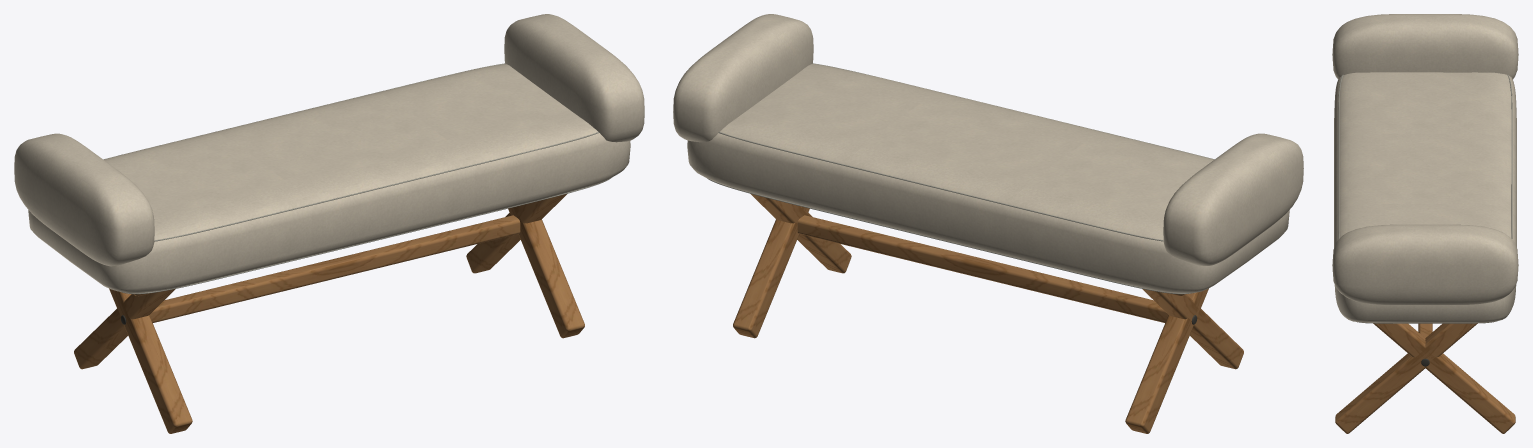
File: football-changing-bench.glb
The picture shows the model from 3 angles, left to right: view 1: azimuth 30°, elevation 25°; view 2: azimuth 150°, elevation 25°; view 3: azimuth 270°, elevation 25°; orthographic projection. The views are drawn at different scales.
Visible parts, largest first — view 1: Boucle | thick continuous upholstered seat, Boucle | raised end bolster, Boucle | raised end bolster.001, Oak | connecting stretcher, Oak | crossed trestle A, Oak | crossed trestle A.001, Oak | crossed trestle B, Oak | crossed trestle B.001, Boucle | thick continuous upholstered seat | upper tailored , Boucle | thick continuous upholstered seat | lower tailored ; view 2: Boucle | thick continuous upholstered seat, Boucle | raised end bolster, Boucle | raised end bolster.001, Oak | connecting stretcher, Oak | crossed trestle B, Oak | crossed trestle B.001, Oak | crossed trestle A, Oak | crossed trestle A.001, Boucle | thick continuous upholstered seat | upper tailored , Boucle | thick continuous upholstered seat | lower tailored ; view 3: Boucle | thick continuous upholstered seat, Boucle | raised end bolster.001, Boucle | raised end bolster, Oak | crossed trestle A.001, Oak | crossed trestle B.001, Boucle | thick continuous upholstered seat | upper tailored .
Part boxes in pixels (bbox=[...]): Boucle | thick continuous upholstered seat: bbox=[28, 64, 630, 293]; Boucle | raised end bolster: bbox=[14, 133, 154, 266]; Boucle | raised end bolster.001: bbox=[504, 14, 644, 142]; Oak | connecting stretcher: bbox=[149, 215, 520, 322]; Oak | crossed trestle A: bbox=[109, 288, 192, 433]; Oak | crossed trestle A.001: bbox=[508, 206, 584, 338]; Oak | crossed trestle B: bbox=[74, 289, 175, 369]; Oak | crossed trestle B.001: bbox=[466, 193, 567, 273]; Boucle | thick continuous upholstered seat | upper tailored : bbox=[103, 63, 599, 241]; Boucle | thick continuous upholstered seat | lower tailored : bbox=[122, 178, 610, 294]; Boucle | thick continuous upholstered seat: bbox=[687, 64, 1289, 293]; Boucle | raised end bolster: bbox=[1163, 133, 1303, 265]; Boucle | raised end bolster.001: bbox=[673, 14, 813, 142]; Oak | connecting stretcher: bbox=[797, 215, 1168, 322]; Oak | crossed trestle B: bbox=[1125, 288, 1208, 433]; Oak | crossed trestle B.001: bbox=[733, 206, 809, 338]; Oak | crossed trestle A: bbox=[1142, 289, 1243, 369]; Oak | crossed trestle A.001: bbox=[750, 193, 851, 273]; Boucle | thick continuous upholstered seat | upper tailored : bbox=[718, 63, 1214, 241]; Boucle | thick continuous upholstered seat | lower tailored : bbox=[707, 178, 1191, 294]; Boucle | thick continuous upholstered seat: bbox=[1334, 72, 1516, 323]; Boucle | raised end bolster.001: bbox=[1332, 224, 1518, 304]; Boucle | raised end bolster: bbox=[1332, 14, 1518, 79]; Oak | crossed trestle A.001: bbox=[1335, 323, 1477, 433]; Oak | crossed trestle B.001: bbox=[1373, 323, 1515, 433]; Boucle | thick continuous upholstered seat | upper tailored : bbox=[1338, 75, 1512, 239].
Bounding box in the file's own units: 1.51 × 0.6747 × 0.51.
Materials: 4 (2 with a texture image).
